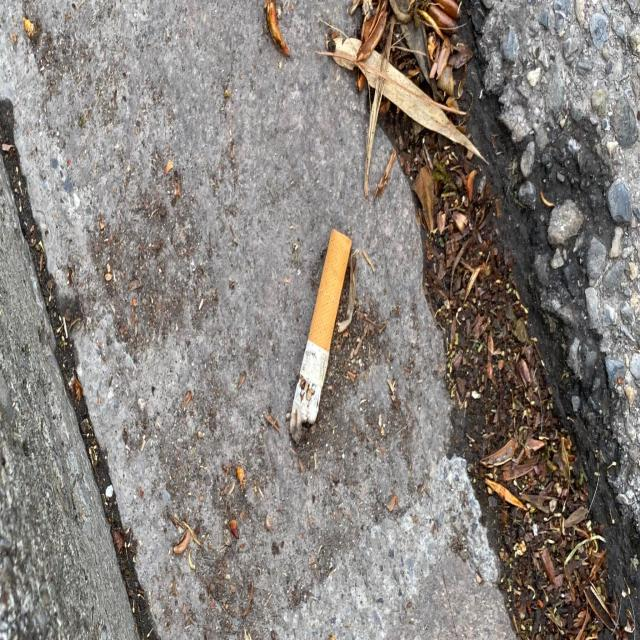other waste: (289, 228, 353, 451)
